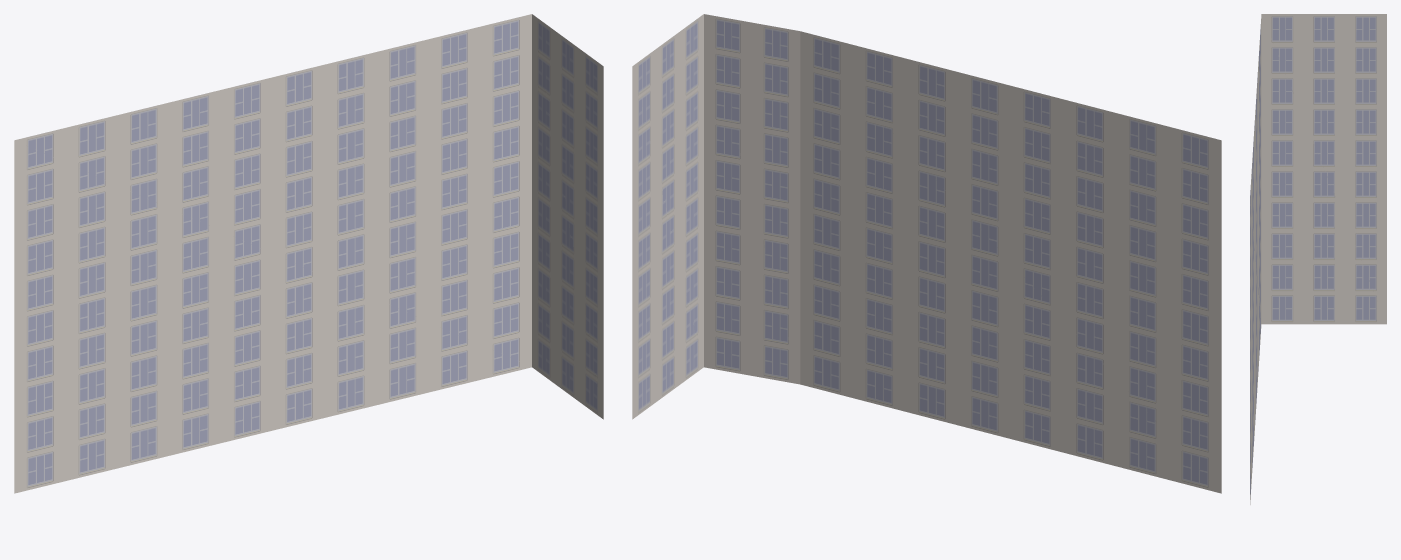
File: testui7.gltf
3 views of the same model, side by side, from view 1: azimuth 30°, elevation 25°; view 2: azimuth 150°, elevation 25°; view 3: azimuth 270°, elevation 25° (orthographic). The views are drawn at different scales.
Bounding box in the file's own units: 46 × 30 × 12.
Materials: 2 (2 with a texture image).
